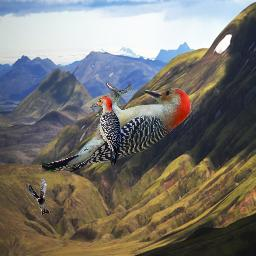Swallow: (25, 176, 51, 215)
Woodpecker: (42, 81, 193, 175), (90, 96, 121, 165)
